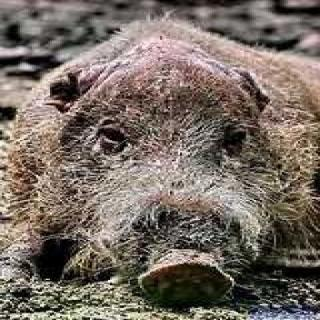Pig: (11, 15, 304, 297)
